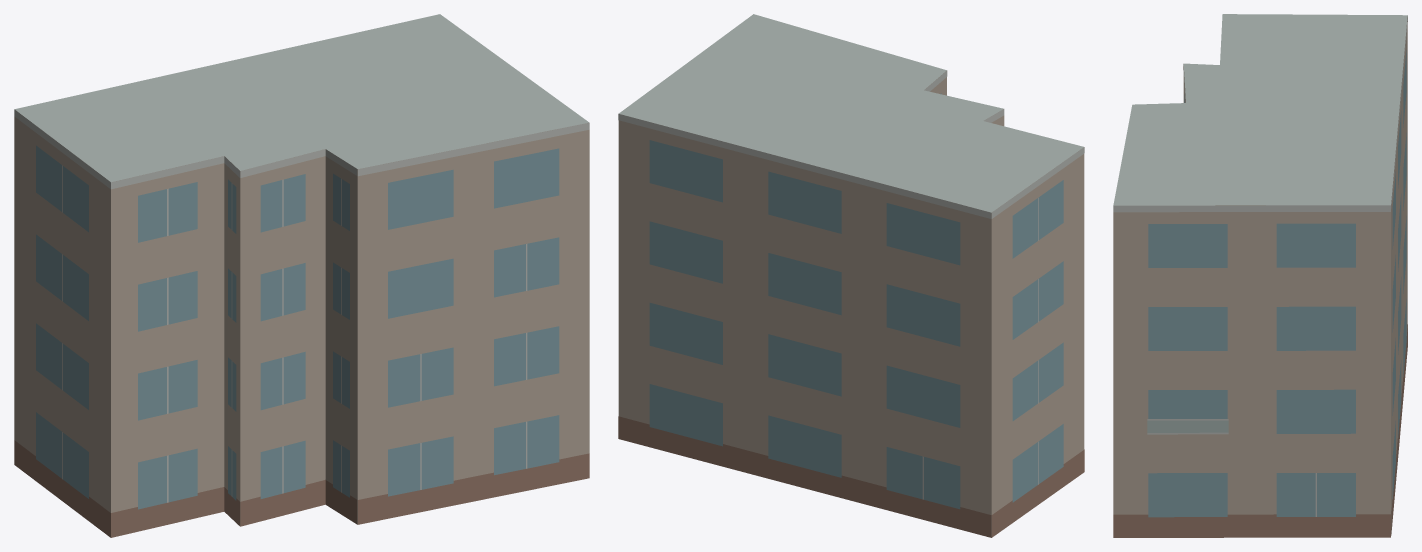
The model's file is survey-upis-32646904.glb.
The picture shows the model from 3 angles, left to right: view 1: azimuth 30°, elevation 25°; view 2: azimuth 150°, elevation 25°; view 3: azimuth 270°, elevation 25°; orthographic projection. The views are drawn at different scales.
Parts seen in each view (by area): view 1: survey-upis-32646904.tmp; view 2: survey-upis-32646904.tmp; view 3: survey-upis-32646904.tmp.
Part boxes in pixels (bbox=[...]): survey-upis-32646904.tmp: bbox=[14, 14, 589, 537]; survey-upis-32646904.tmp: bbox=[618, 14, 1084, 537]; survey-upis-32646904.tmp: bbox=[1113, 14, 1407, 537].
Size of the model in its own units: 15.13 by 12.2 by 9.81.
